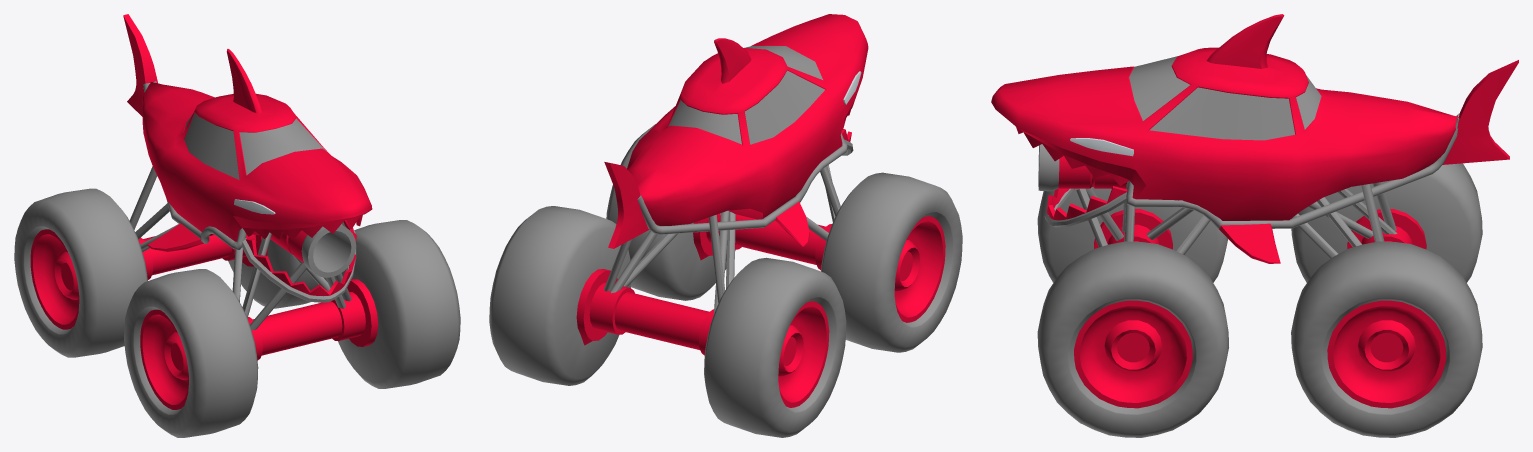
Rendered from SharkTank.fbx.
3 views of the same model, side by side, from view 1: azimuth 30°, elevation 25°; view 2: azimuth 150°, elevation 25°; view 3: azimuth 270°, elevation 25° (orthographic). The views are drawn at different scales.
Visible parts, largest first — view 1: wheels1, sharkMain, wheels2, axel, poles, screen, barrel_end.001, teeth, barrel.001; view 2: wheels2, sharkMain, wheels1, axel, poles, screen; view 3: sharkMain, wheels2, wheels1, axel, poles, screen, teeth, barrel.001, barrel_end.001, lights.001.
Part boxes in pixels (bbox=[...]): wheels1: bbox=[124, 220, 460, 437]; sharkMain: bbox=[123, 14, 372, 251]; wheels2: bbox=[14, 188, 341, 357]; axel: bbox=[30, 229, 378, 409]; poles: bbox=[129, 81, 356, 330]; screen: bbox=[184, 113, 326, 179]; barrel_end.001: bbox=[301, 224, 356, 277]; teeth: bbox=[243, 215, 362, 296]; barrel.001: bbox=[270, 230, 307, 262]; wheels2: bbox=[489, 206, 846, 437]; sharkMain: bbox=[604, 14, 868, 248]; wheels1: bbox=[606, 124, 962, 352]; axel: bbox=[576, 213, 945, 407]; poles: bbox=[603, 133, 853, 314]; screen: bbox=[668, 46, 824, 144]; sharkMain: bbox=[991, 14, 1518, 263]; wheels2: bbox=[1291, 163, 1482, 437]; wheels1: bbox=[1037, 187, 1228, 437]; axel: bbox=[1074, 209, 1446, 408]; poles: bbox=[1044, 113, 1459, 258]; screen: bbox=[1129, 56, 1321, 140]; teeth: bbox=[1016, 127, 1129, 220]; barrel.001: bbox=[1058, 156, 1126, 188]; barrel_end.001: bbox=[1038, 144, 1059, 191]; lights.001: bbox=[1070, 138, 1133, 156].
Bounding box in the file's own units: 162 × 182 × 244.
